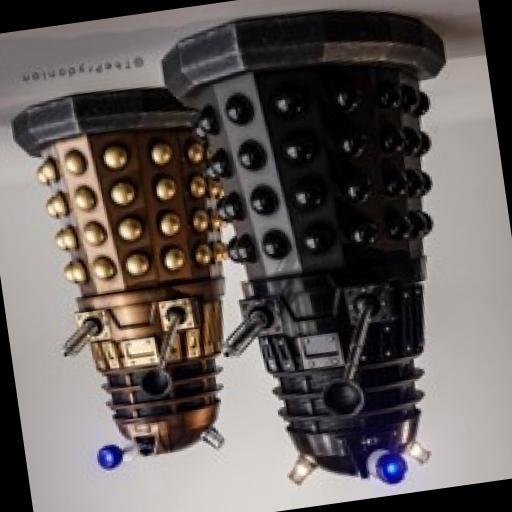dalek: (156, 0, 511, 507), (6, 75, 256, 479)
